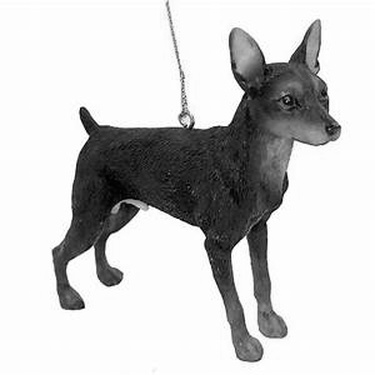dog: (32, 13, 347, 364)
